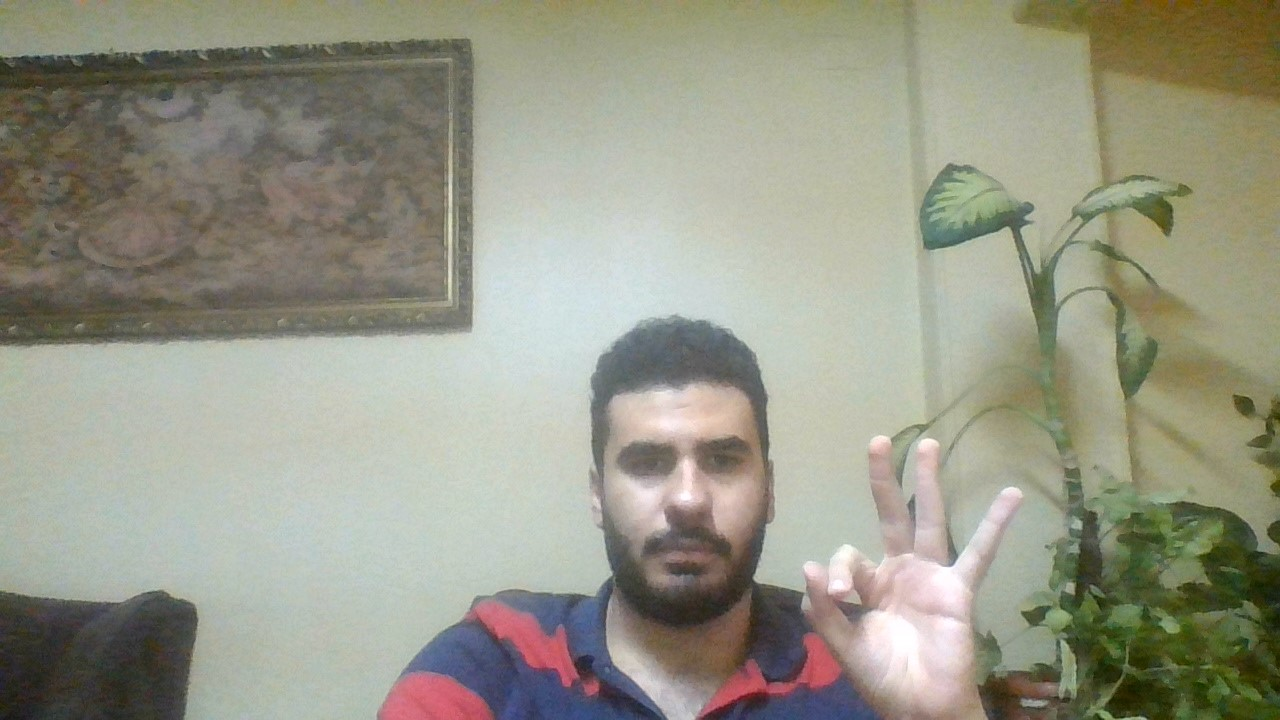okay: (788, 427, 1021, 720)
